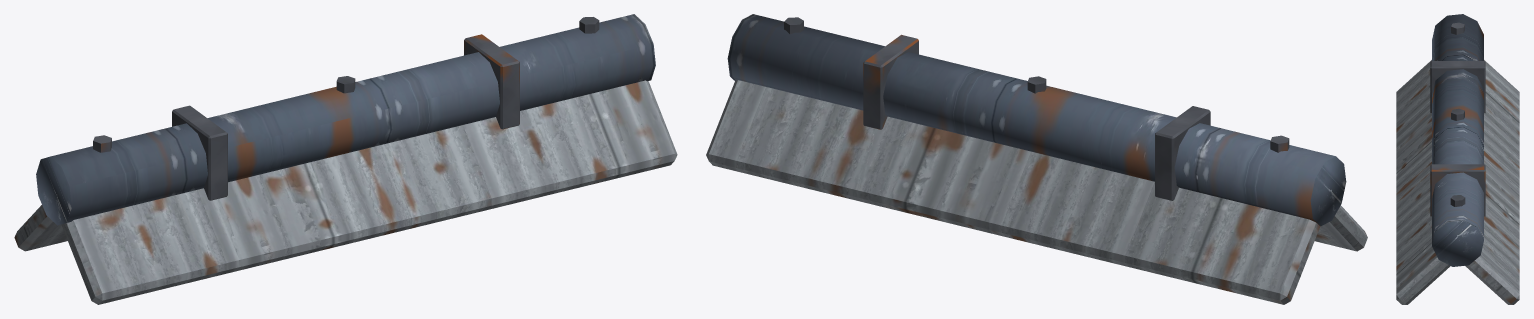
File: cati_tepesi.glb
The picture shows the model from 3 angles, left to right: view 1: azimuth 30°, elevation 25°; view 2: azimuth 150°, elevation 25°; view 3: azimuth 270°, elevation 25°; orthographic projection. The views are drawn at different scales.
Visible parts, largest first — view 1: cati_tepesi; view 2: cati_tepesi; view 3: cati_tepesi.
Part boxes in pixels (left/top/right/bottom): cati_tepesi: left=14, top=14, right=677, bottom=304; cati_tepesi: left=706, top=14, right=1367, bottom=304; cati_tepesi: left=1396, top=14, right=1519, bottom=304.
Size of the model in its own units: 3 by 0.6226 by 0.7566.
Materials: 1 (1 with a texture image).
